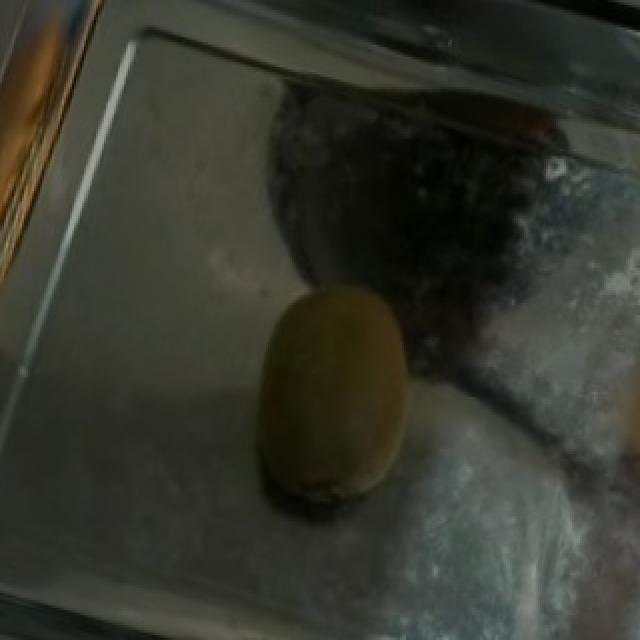Fruit: (208, 263, 446, 548)
